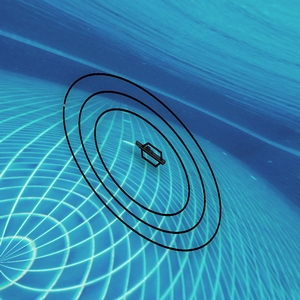circle: (51, 39, 238, 266)
submarine: (137, 141, 163, 164)
